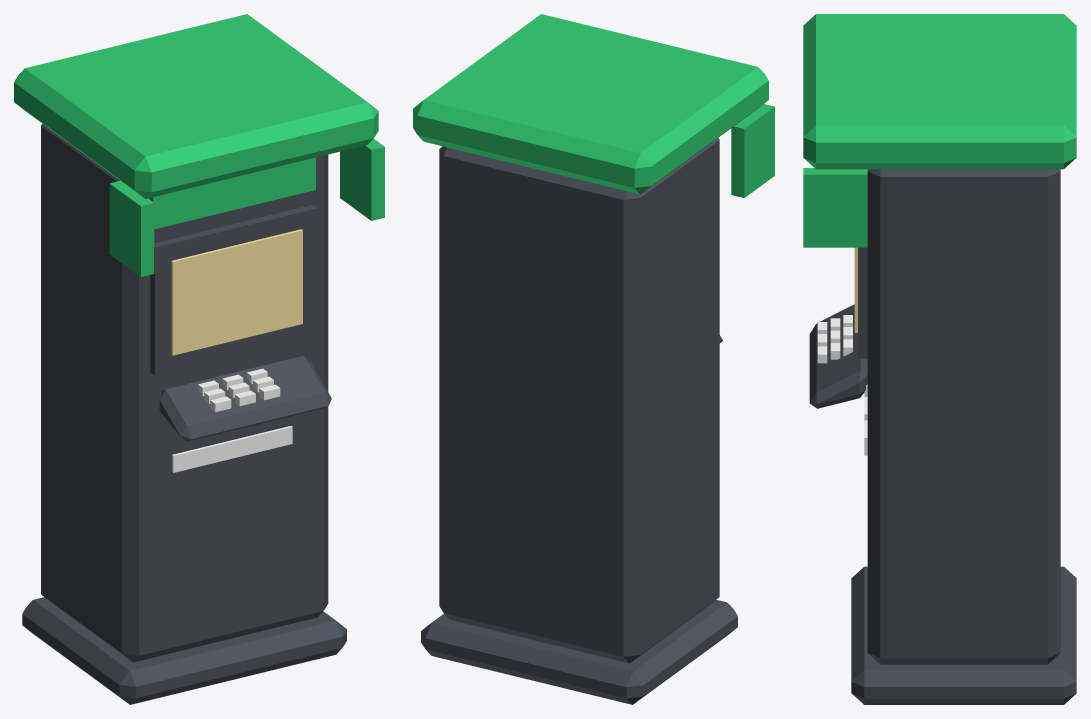
The model's file is atm.glb.
The picture shows the model from 3 angles, left to right: view 1: azimuth 30°, elevation 25°; view 2: azimuth 150°, elevation 25°; view 3: azimuth 270°, elevation 25°; orthographic projection. The views are drawn at different scales.
Parts seen in each view (by area): view 1: atm; view 2: atm; view 3: atm.
Boxes of the visible parts, x1,y1,x2,y2 form: atm: (14, 14, 384, 704); atm: (413, 14, 774, 704); atm: (803, 14, 1076, 704).
Size of the model in its own units: 0.9 by 2 by 0.85.
